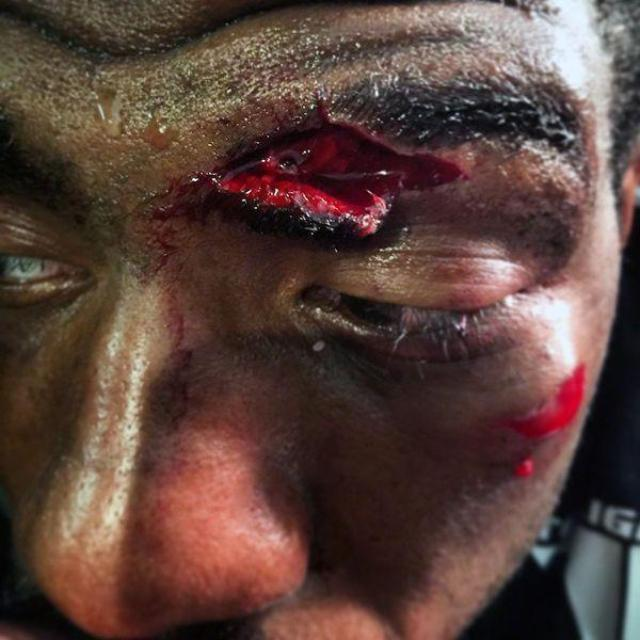flood: (202, 102, 466, 246)
